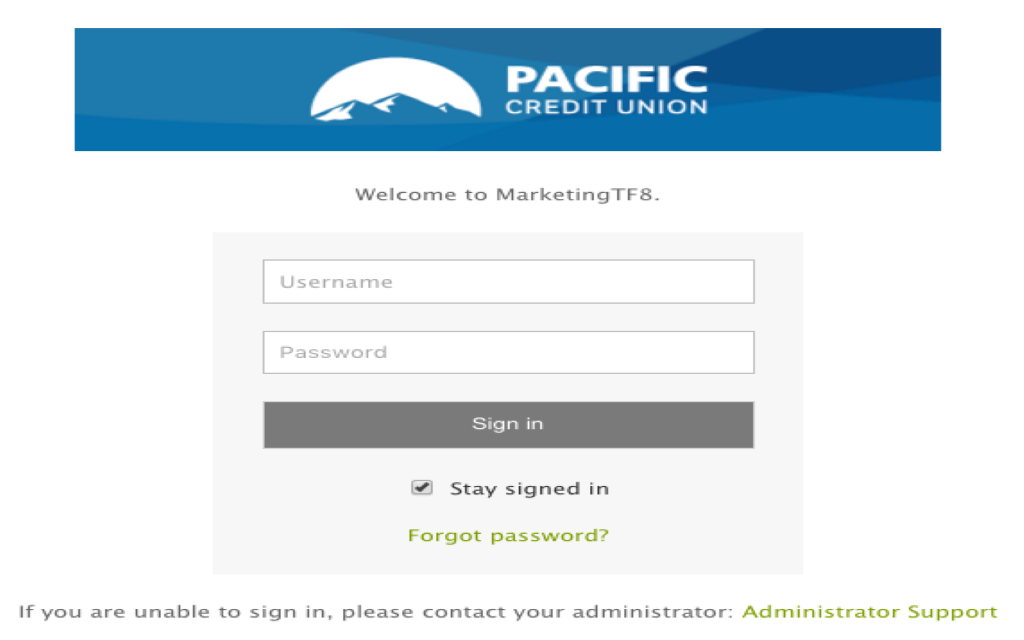button: (265, 403, 753, 446)
checkbox: (412, 479, 432, 494)
label_SignIn: (467, 412, 553, 436)
label_Username: (276, 269, 398, 292)
label_password: (274, 341, 393, 364)
textbox: (262, 259, 753, 303), (263, 331, 753, 374)
textbox_Password: (265, 330, 756, 375)
textbox_username: (266, 259, 754, 302)
url: (405, 527, 613, 545)
